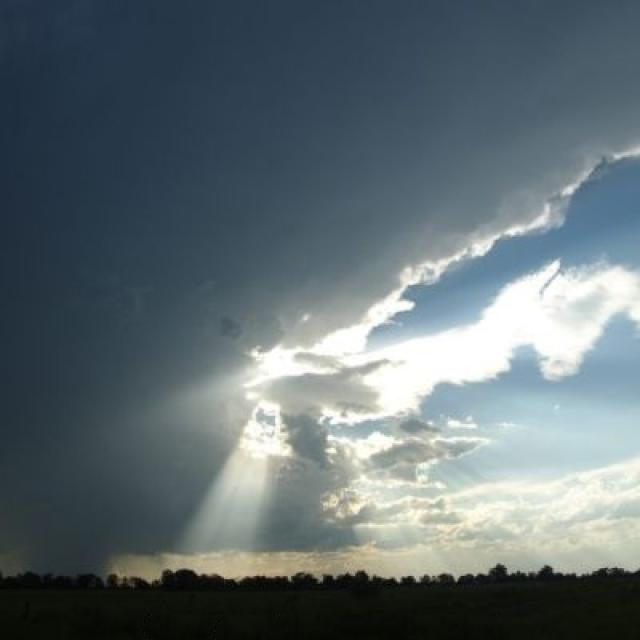Cb: (1, 11, 640, 541)
